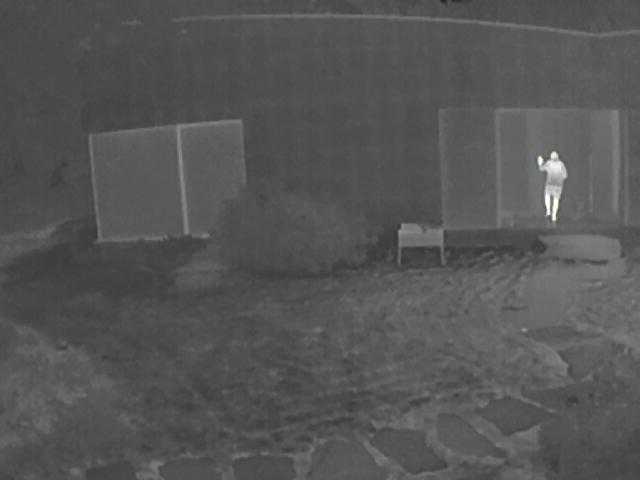person: (540, 148, 569, 224)
